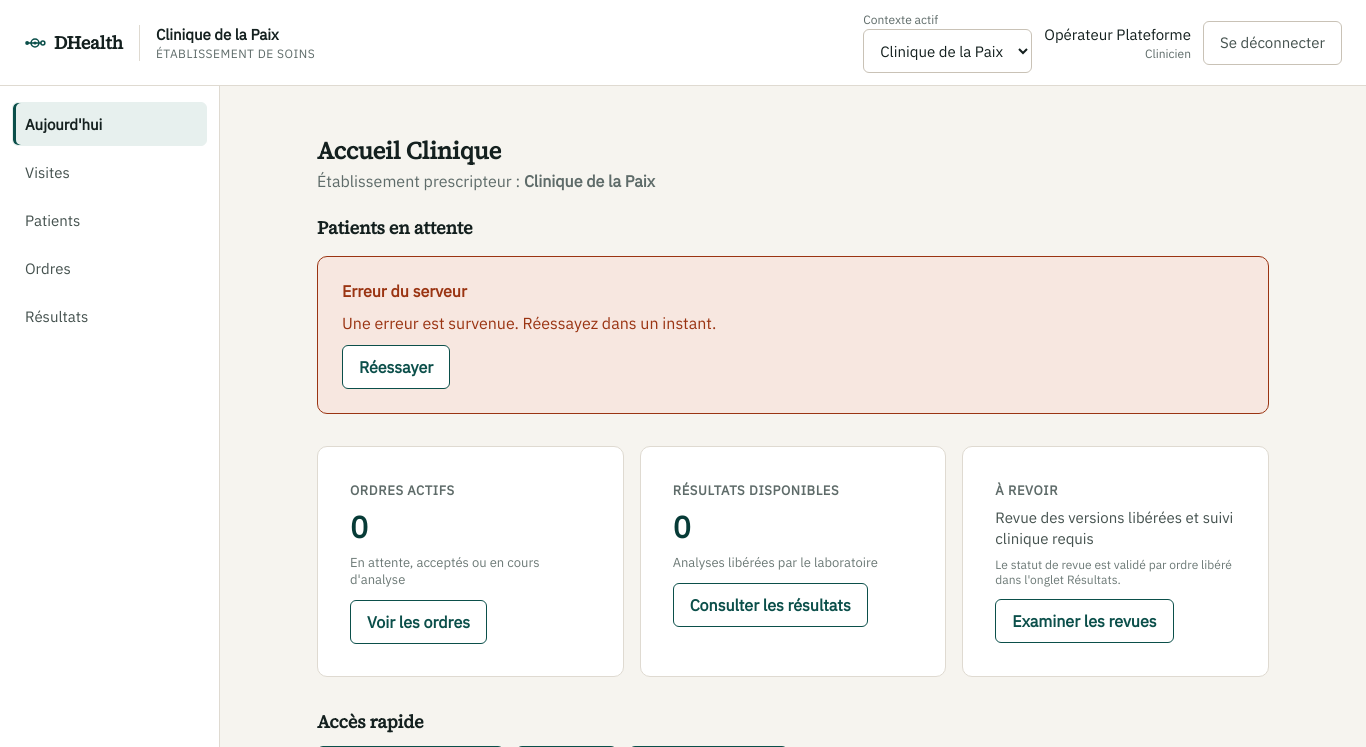
Test: platform scope › PS4: a platform admin who also holds a membership can move between both contexts
Expected: the text "Clinique de la Paix" next to "DHealth" is shown, x1=156 y1=24 x2=279 y2=44
Step 1. Select "Réseau DHealth" in the dropdown labelled "Contexte actif" → (948, 51), box x1=863 y1=29 x2=1032 y2=73
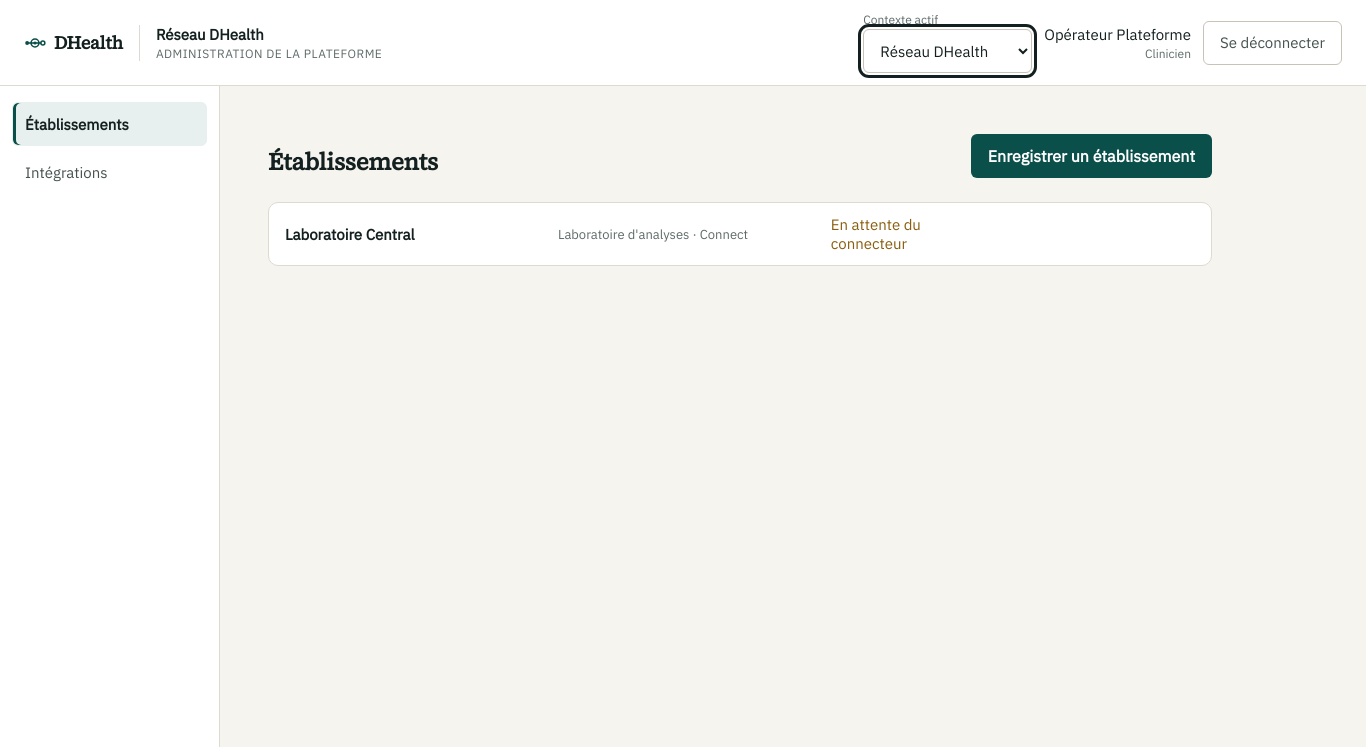
Expected: the heading "Établissements" is shown, x1=268 y1=145 x2=438 y2=178
Expected: the text "Clinique de la Paix" is gone
Expected: the text "Réseau DHealth" is shown, x1=156 y1=24 x2=264 y2=44
